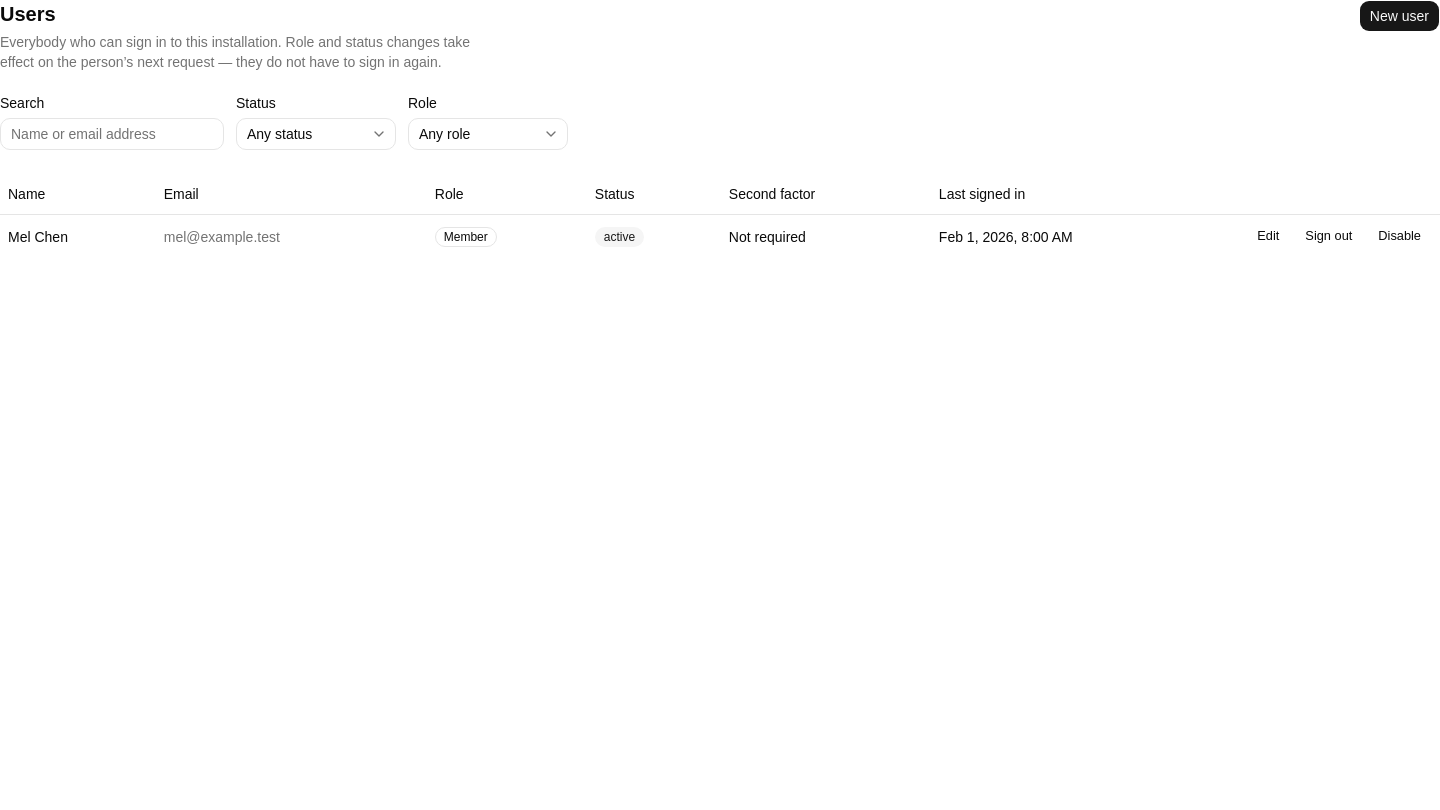
UsersPage › quotes how many sessions were ended, including none
What coordinates should you click on to do the following:
click the button "Sign out"
I would click on:
 (1329, 236)
Its box is 1294,222 -> 1363,250.
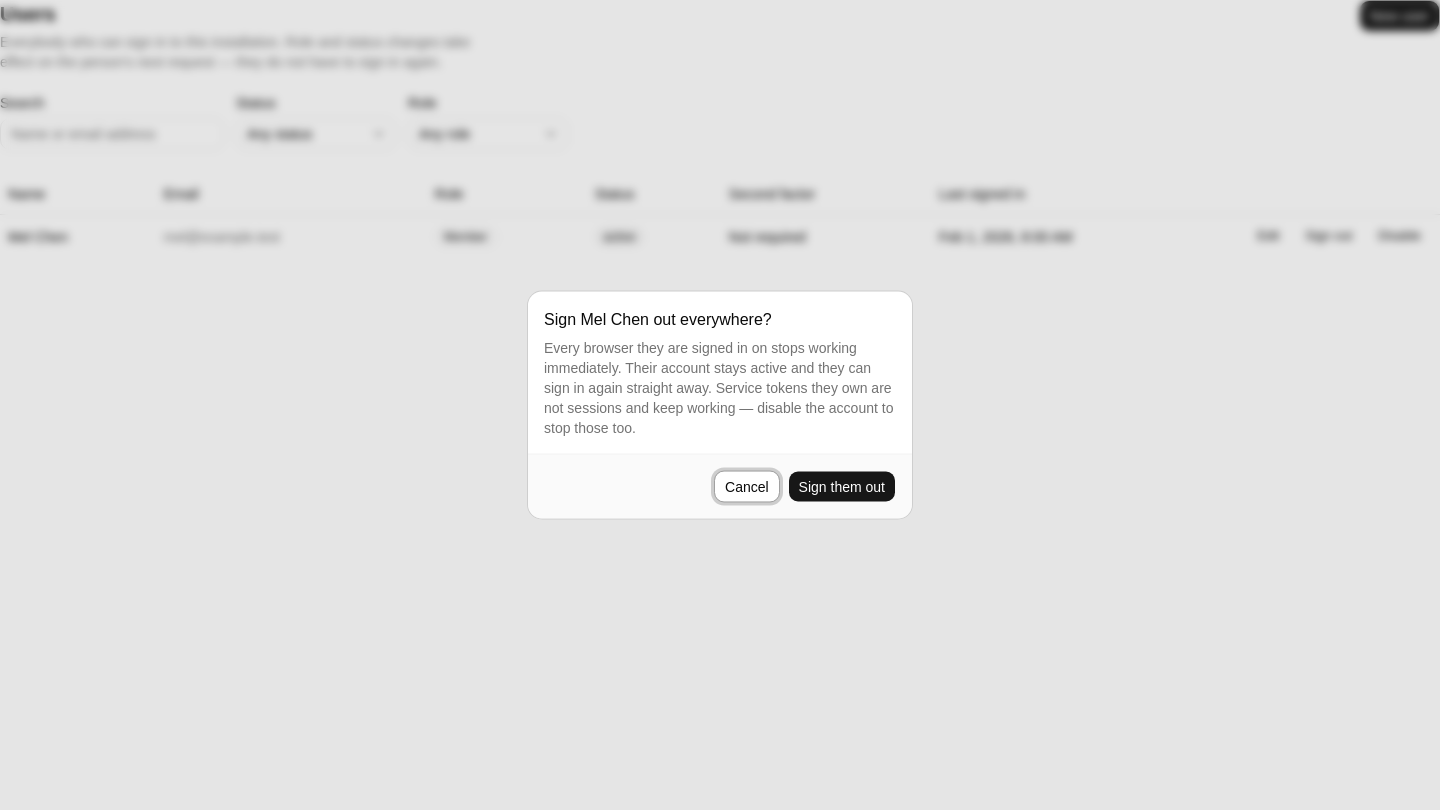
Expected: the dialog shows "Service tokens they own are not sessions", 544,340 -> 893,436
What coordinates should you click on to do the following:
click the button "Sign them out"
I would click on:
 (842, 486)
Its box is 788,470 -> 896,502.
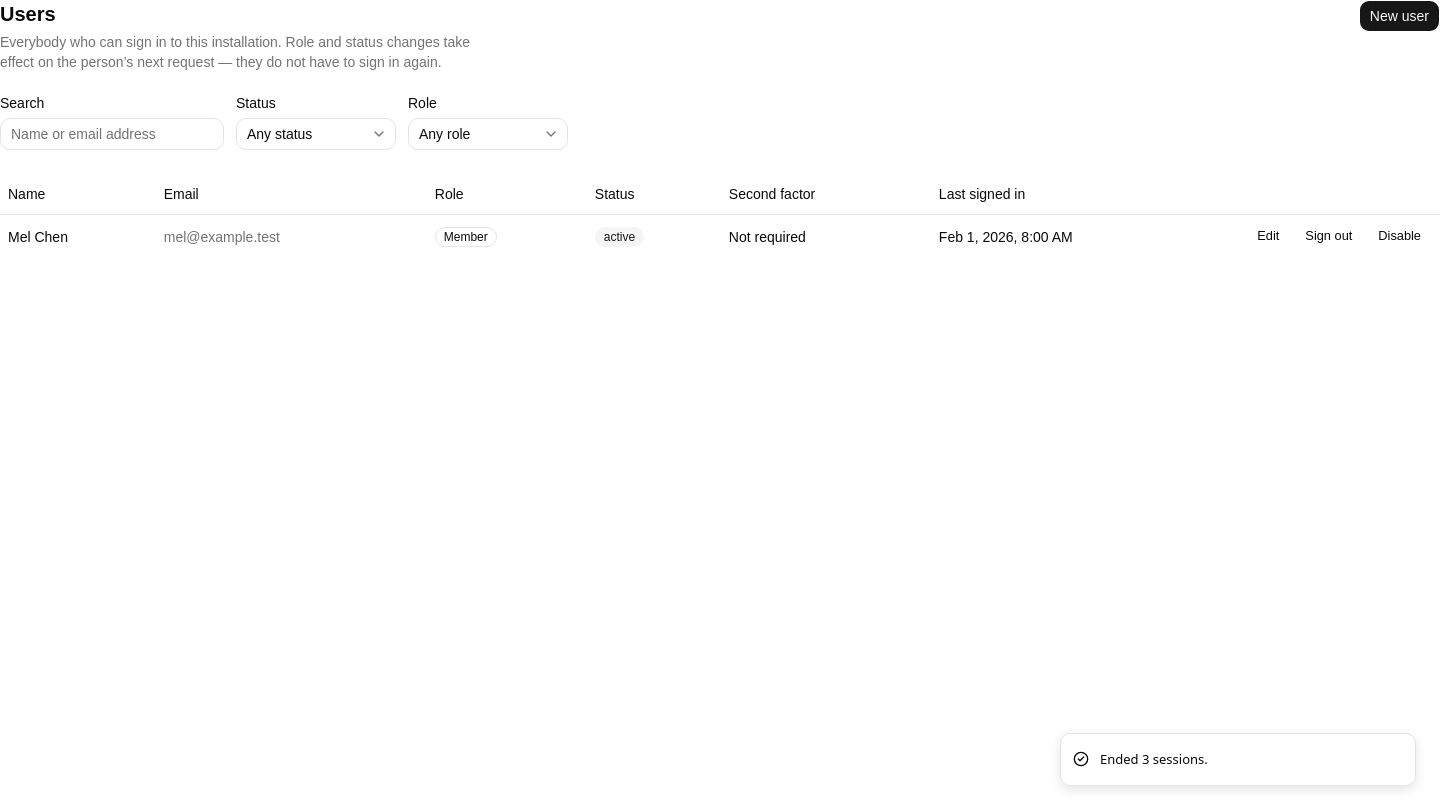
Expected: the text "Ended 3 sessions." is shown, 1100,750 -> 1208,769
